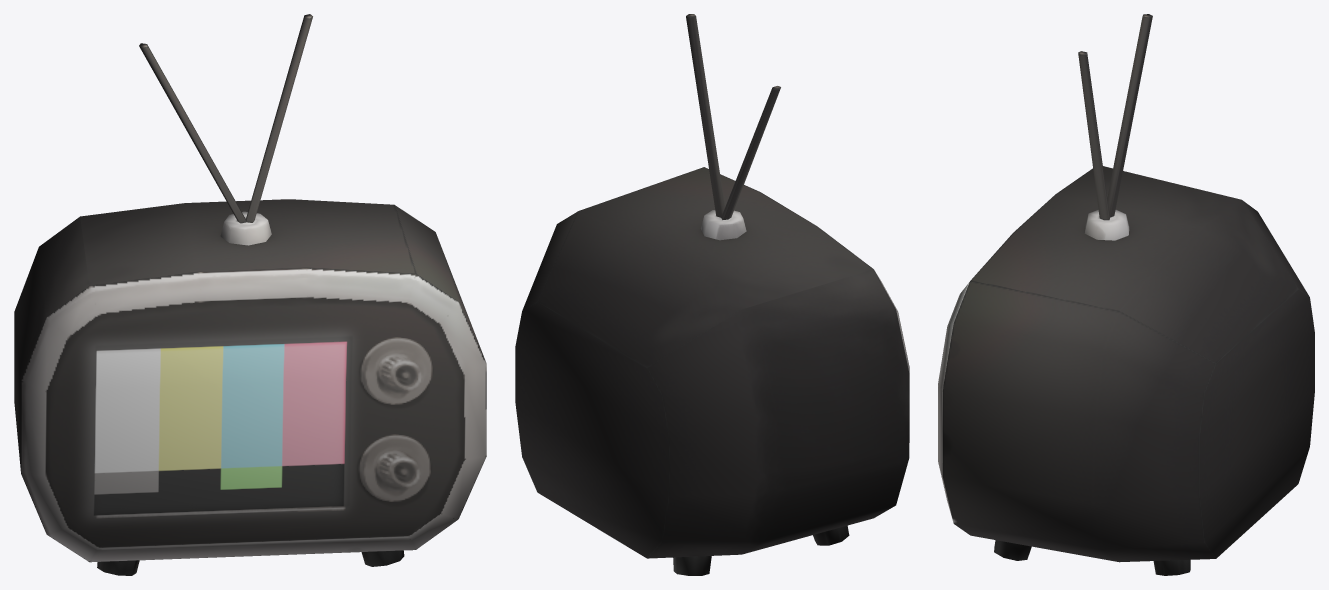
The picture shows the model from 3 angles, left to right: view 1: azimuth 30°, elevation 25°; view 2: azimuth 150°, elevation 25°; view 3: azimuth 270°, elevation 25°; orthographic projection. The views are drawn at different scales.
Visible parts, largest first — view 1: tv; view 2: tv; view 3: tv.
Boxes of the visible parts, x1=… form: tv: x1=14, y1=14, x2=486, y2=575; tv: x1=515, y1=14, x2=909, y2=575; tv: x1=938, y1=14, x2=1314, y2=575.
Size of the model in its own units: 1.89 by 2.26 by 1.58.
Materials: 1 (1 with a texture image).
